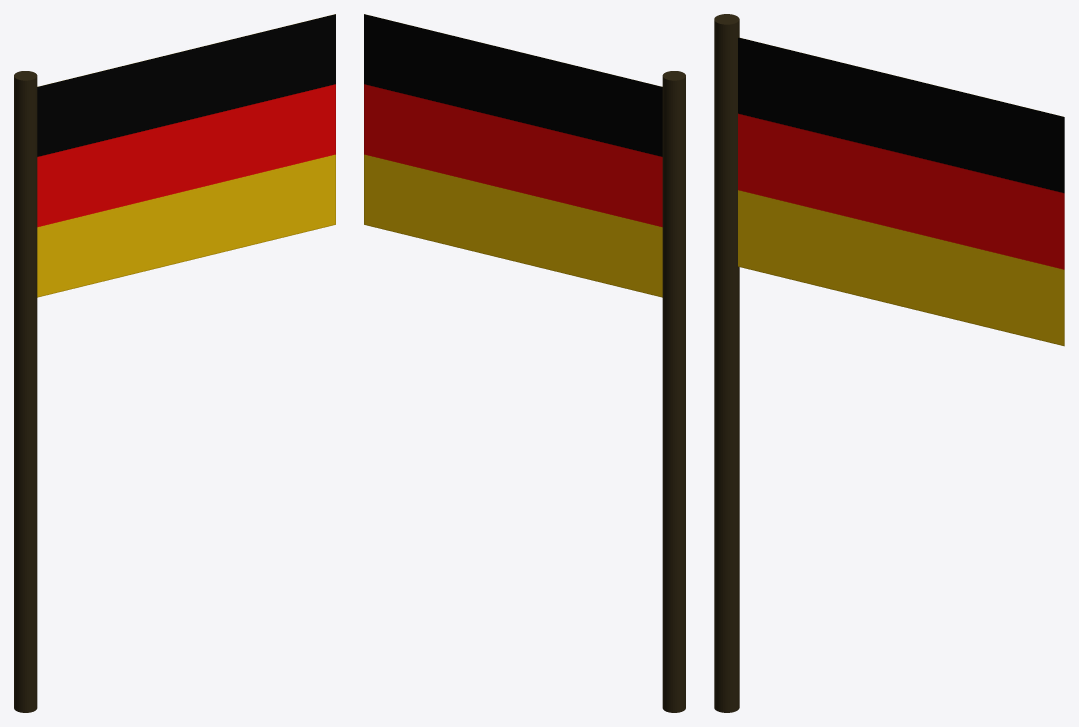
Rendered from Germany.glb.
3 views of the same model, side by side, from view 1: azimuth 30°, elevation 25°; view 2: azimuth 150°, elevation 25°; view 3: azimuth 330°, elevation 25° (orthographic). The views are drawn at different scales.
Visible parts, largest first — view 1: Plane, Cylinder; view 2: Plane, Cylinder; view 3: Plane, Cylinder.
Part boxes in pixels (x1=…): Plane: x1=37, y1=14, x2=335, y2=297; Cylinder: x1=14, y1=71, x2=37, y2=712; Plane: x1=364, y1=14, x2=662, y2=297; Cylinder: x1=662, y1=71, x2=685, y2=712; Plane: x1=738, y1=37, x2=1064, y2=346; Cylinder: x1=714, y1=14, x2=739, y2=712.
Bounding box in the file's own units: 3.18 × 6 × 0.2.
2 materials, 1 textured.
